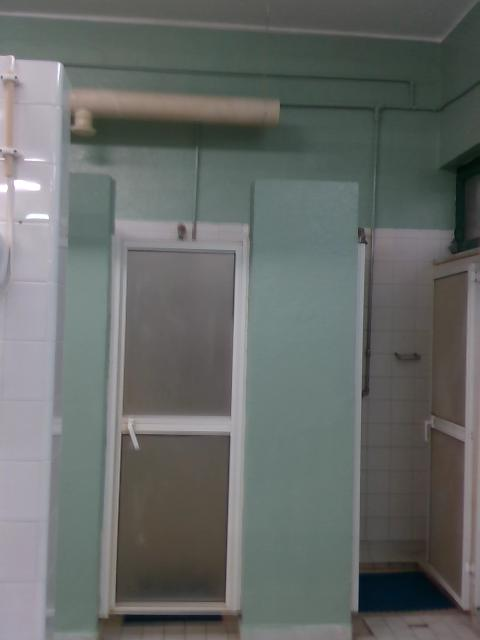door: (98, 233, 244, 614), (422, 255, 479, 611)
